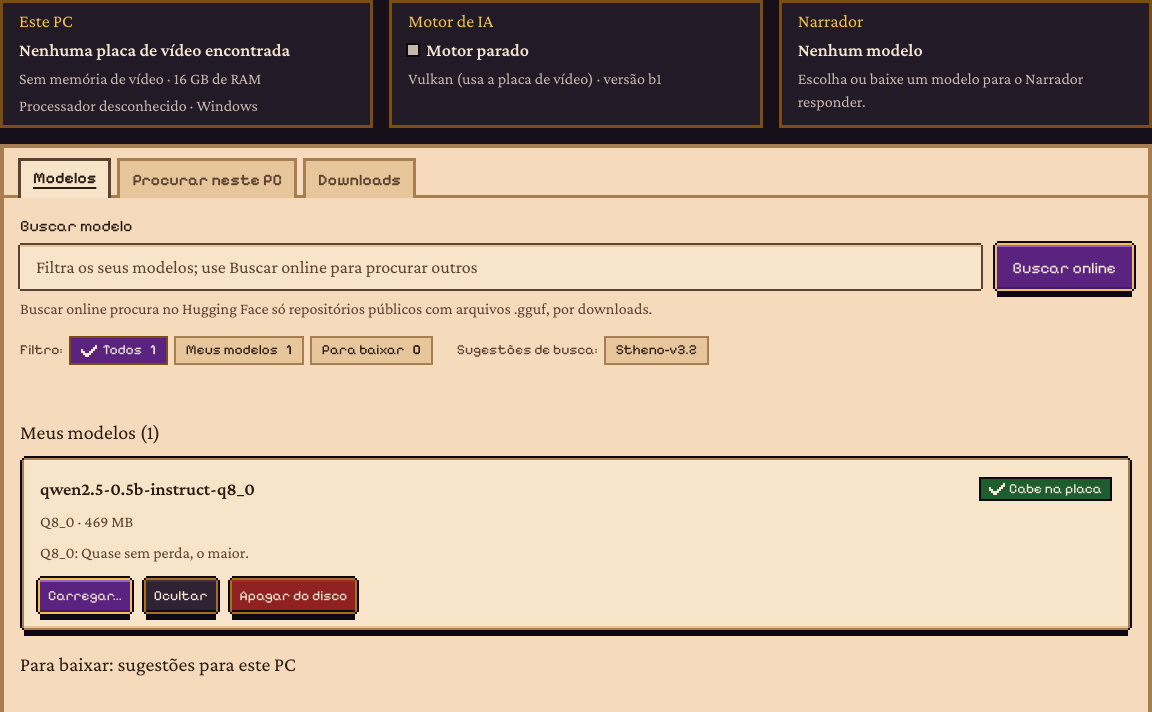
Scenario: Modelos — Downloads › interrompido (do disco) oferece Retomar
Click the tab "Downloads" at {"x": 360, "y": 178}, box x1=303 y1=158 x2=416 y2=198
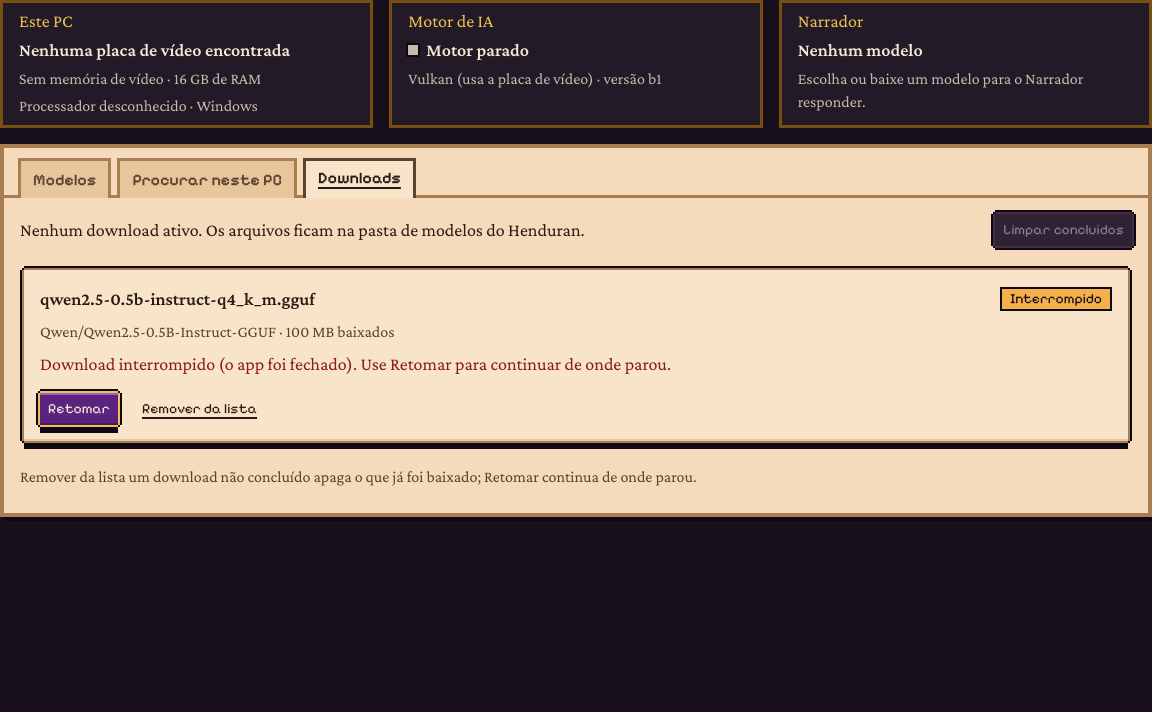
Expected: the list named "Lista de downloads" shows "Interrompido", x1=1010 y1=290 x2=1102 y2=307
Expected: the list named "Lista de downloads" shows "100 MB baixados", x1=276 y1=323 x2=394 y2=340
Expected: the button "Retomar" is shown, x1=40 y1=393 x2=118 y2=425
